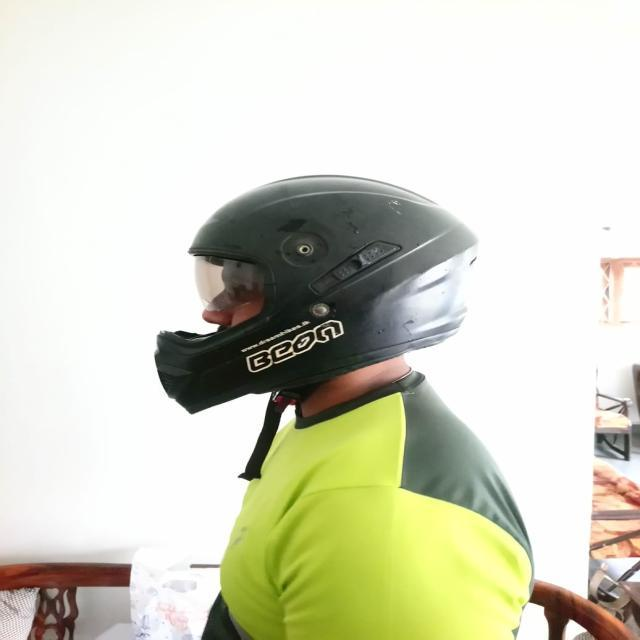helmet: (105, 151, 534, 439)
